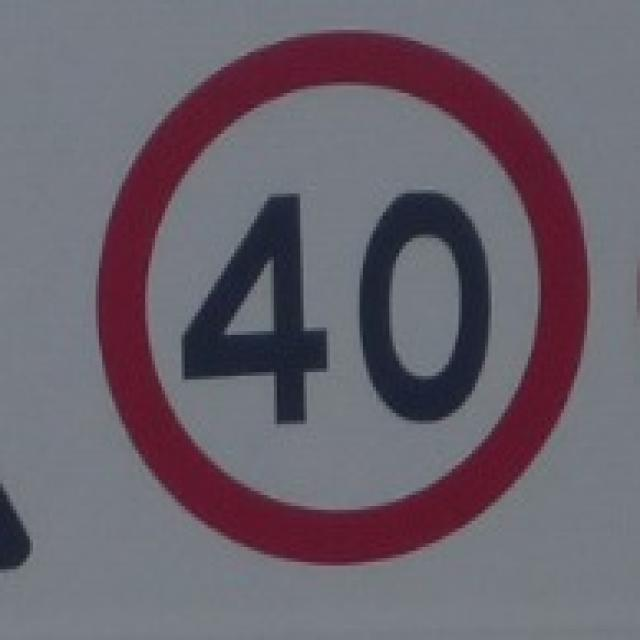Speed Limit -40-: (178, 182, 495, 428)
